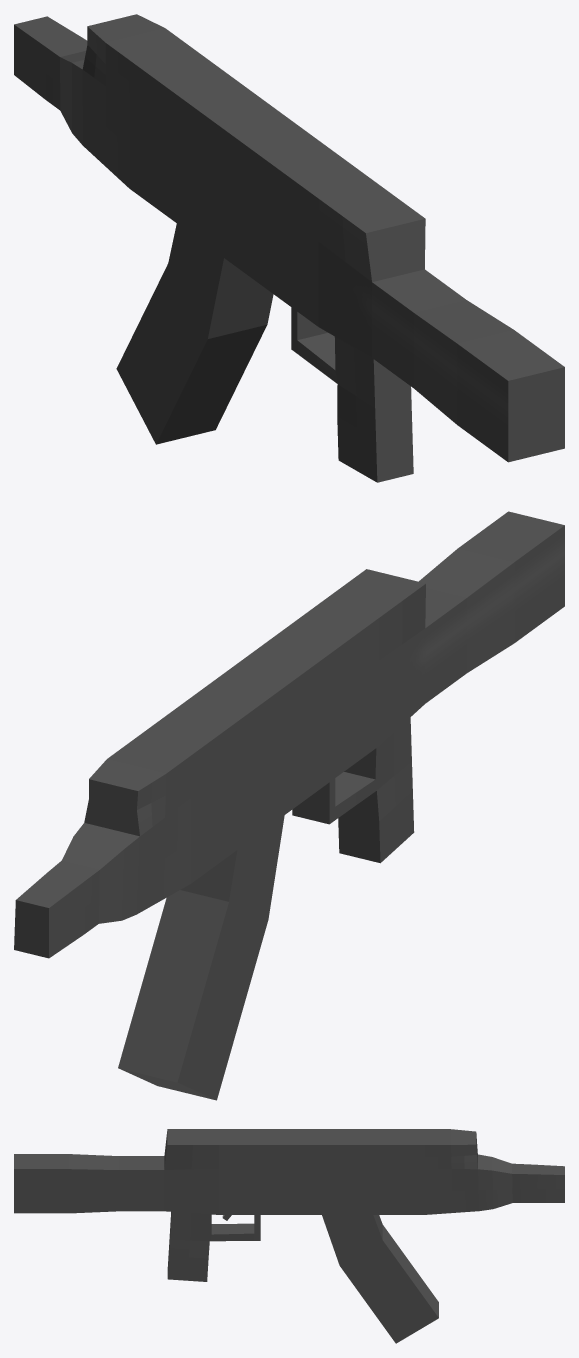
Rendered from ak47 com cor 1.fbx.
3 views of the same model, one above another, from view 1: azimuth 30°, elevation 25°; view 2: azimuth 150°, elevation 25°; view 3: azimuth 270°, elevation 25° (orthographic). The views are drawn at different scales.
Visible parts, largest first — view 1: Cube; view 2: Cube; view 3: Cube.
Boxes of the visible parts, left/top/right/bottom form: Cube: left=14, top=14, right=564, bottom=482; Cube: left=14, top=511, right=564, bottom=1100; Cube: left=14, top=1129, right=564, bottom=1343.
Bounding box in the file's own units: 146 × 852 × 2140.
Materials: 2 (2 with a texture image).
